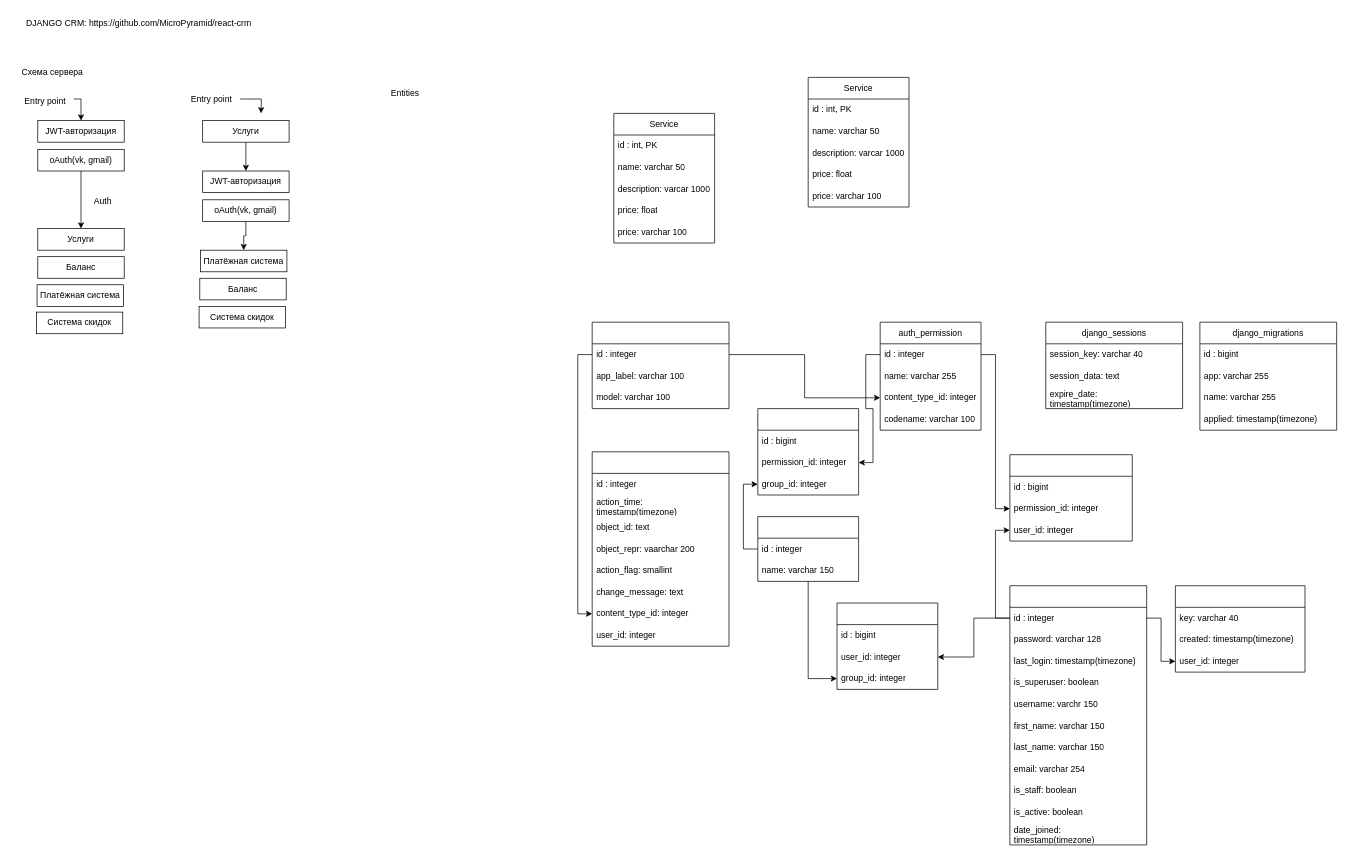
Image size: 1349x858. Some labels were removed from this diagram. Each missing label, with the box of its shape:
auth_group: (757, 516, 859, 581)
auth_group_permission: (757, 408, 859, 495)
auth_user: (1009, 585, 1147, 845)
auth_user_groups: (836, 602, 938, 689)
auth_user_user_permission: (1009, 454, 1132, 541)
authtoken_token: (1175, 585, 1305, 672)
django_admin_log: (591, 451, 729, 646)
django_content_type: (591, 321, 729, 409)
